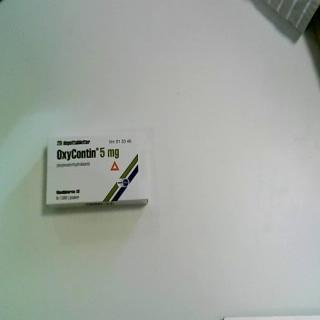oxycontin5mg: (44, 130, 150, 210)
